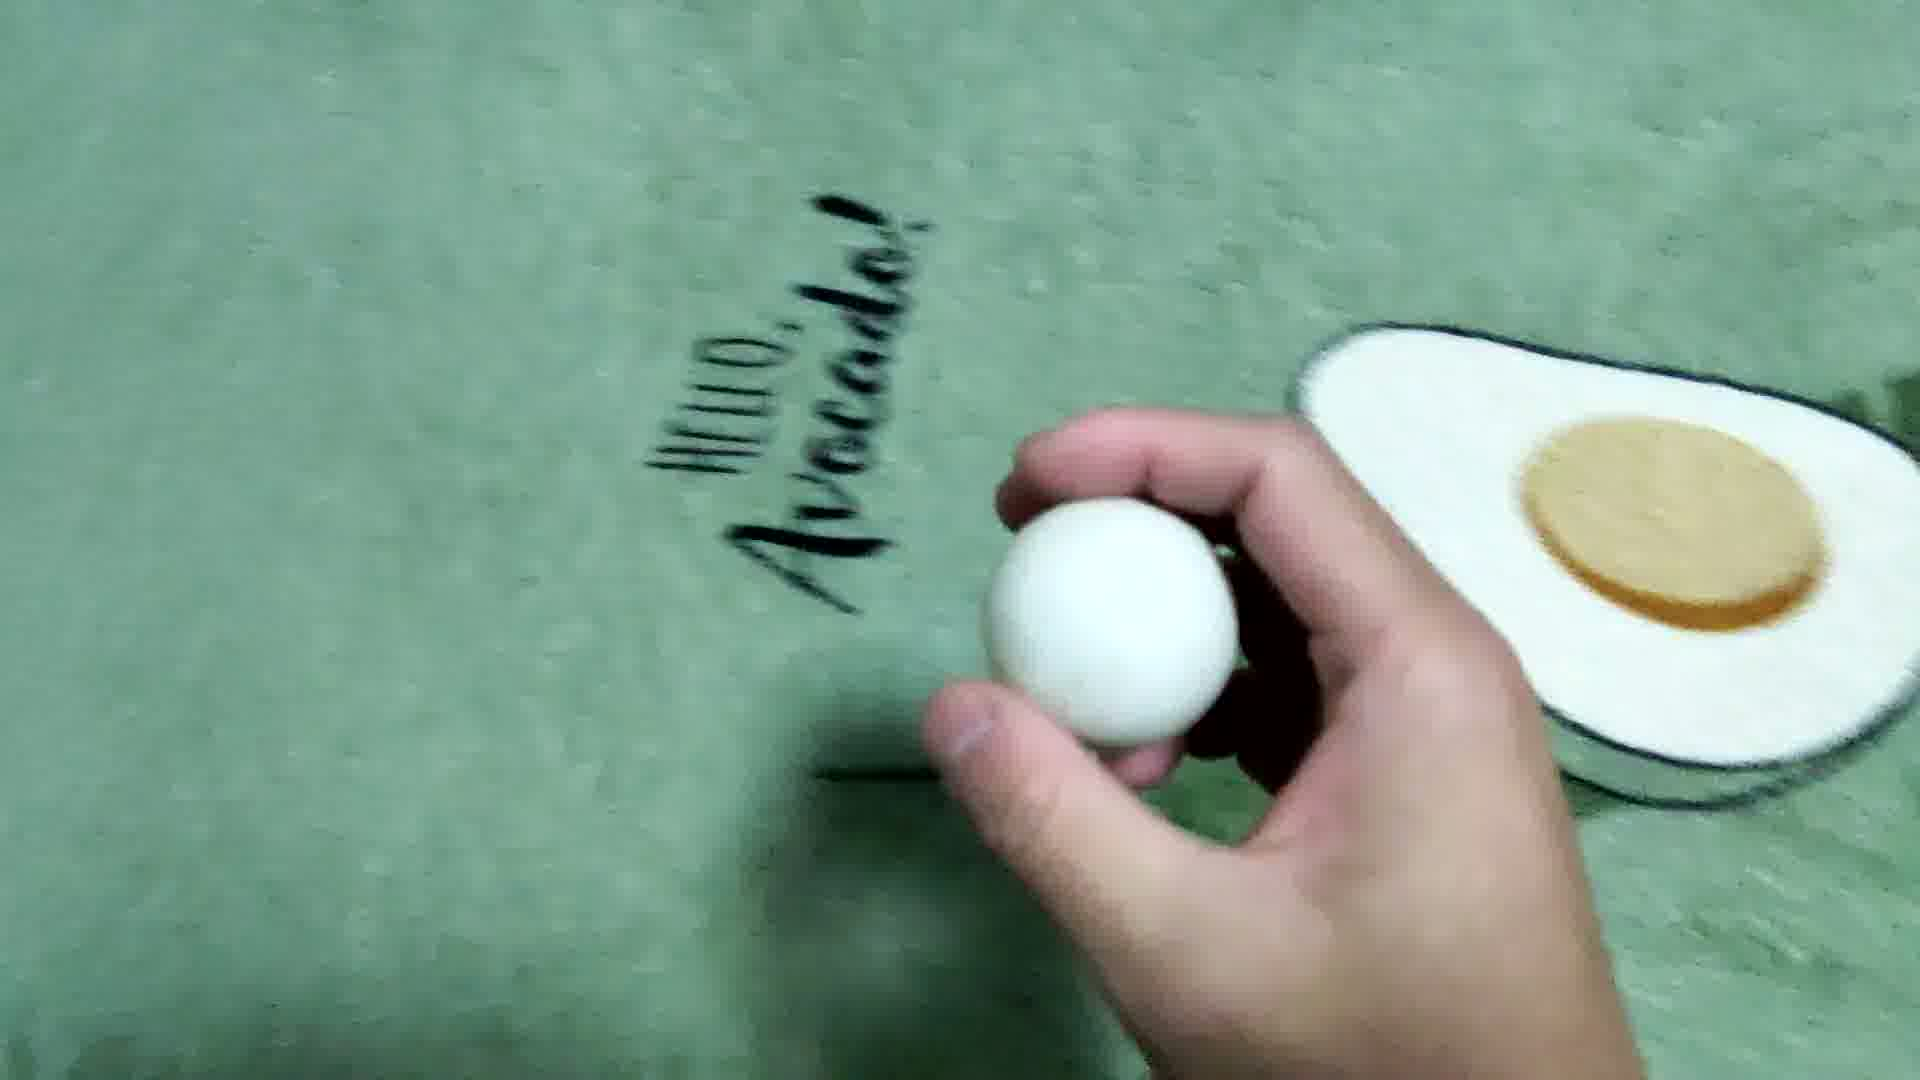Ball: (985, 495, 1241, 745)
